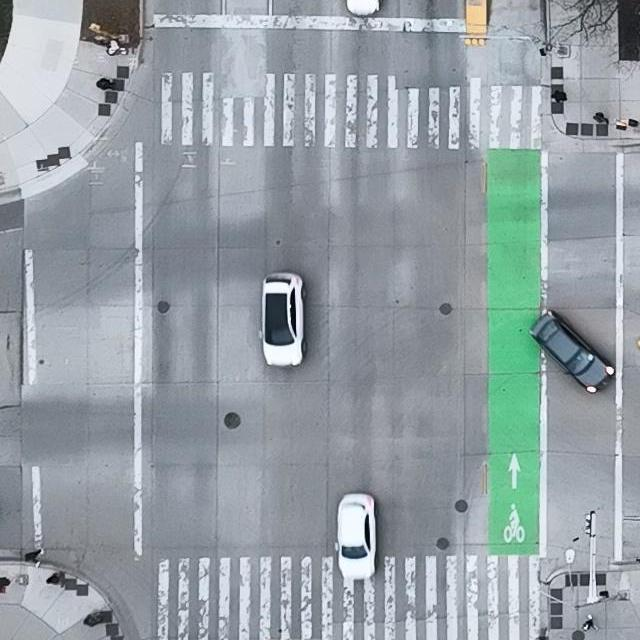car: (528, 310, 614, 394), (259, 273, 305, 367), (335, 492, 377, 577)
